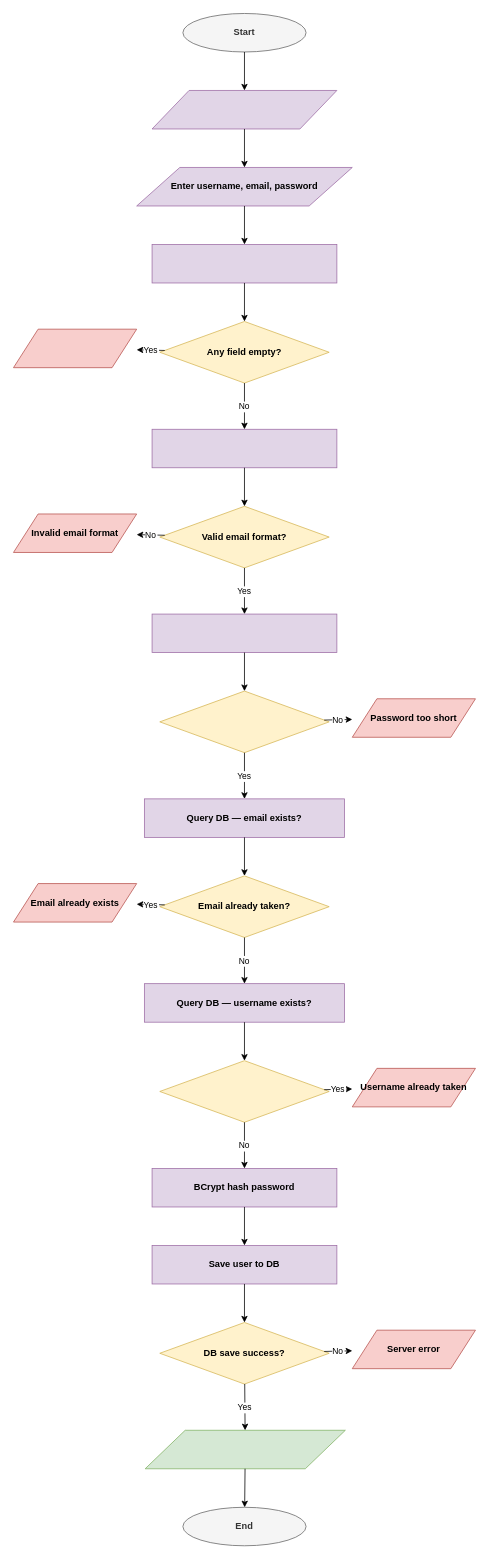
The diagram is 489 pixels wide and 1559 high, and some of its shapes have lost their labels. Each missing label, with the centre of its shape:
All fields required: the point at 75,348
Check for empty fields: the point at 244,263
Min 6 characters?: the point at 244,721
Return account created: the point at 244,1449
User opens register page: the point at 244,109
Username already taken?: the point at 244,1091
Validate email format: the point at 244,448
Validate password length: the point at 244,633
